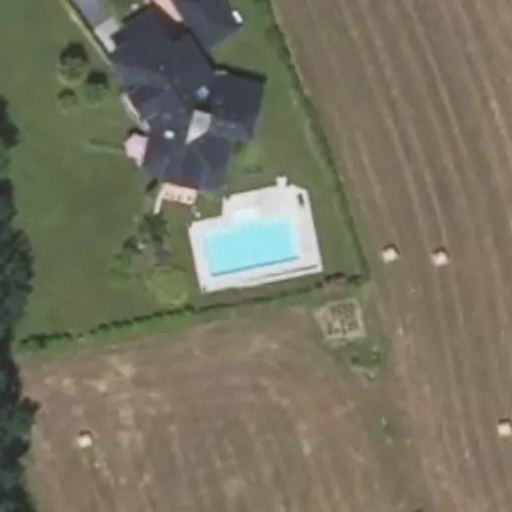pool: (207, 220, 304, 263)
